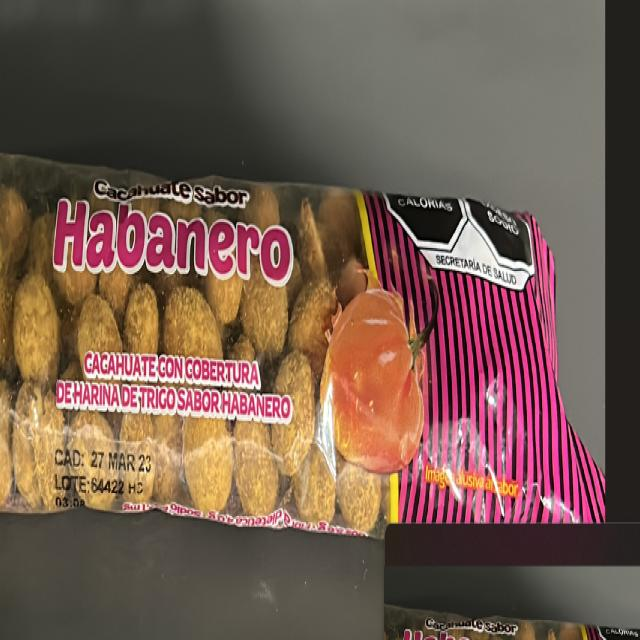bitzHabanero: (0, 151, 611, 545)
